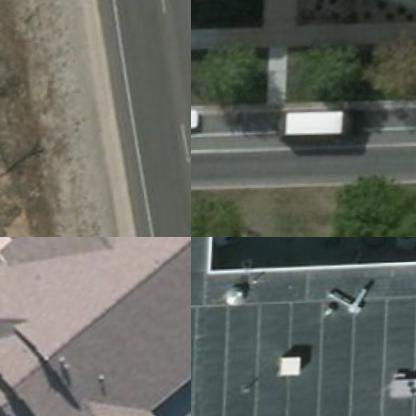car: (210, 237, 289, 248), (191, 106, 205, 141)
